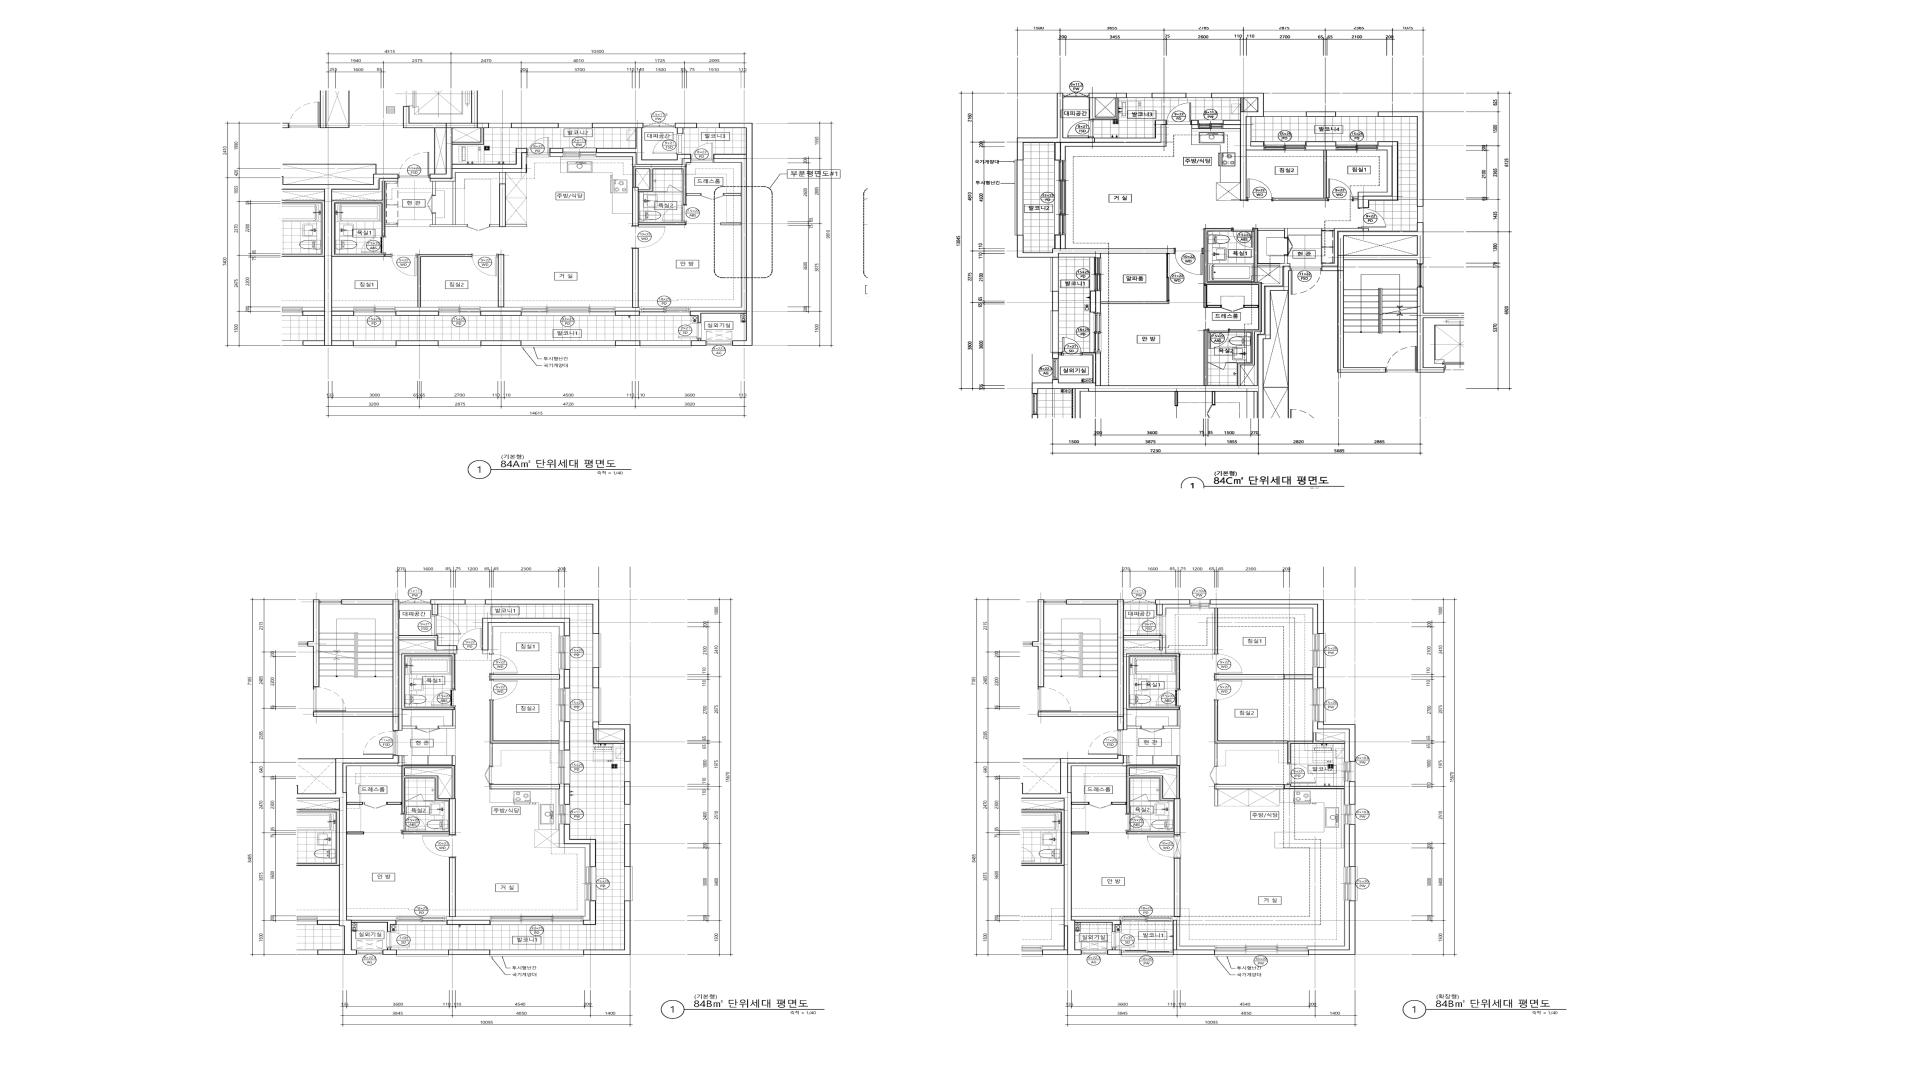door: (1290, 267, 1322, 295), (398, 152, 430, 178), (313, 687, 346, 712), (363, 731, 396, 756), (1088, 730, 1121, 755), (1038, 687, 1071, 712), (422, 835, 456, 858), (1174, 249, 1204, 275), (1147, 835, 1180, 858), (632, 226, 665, 248), (653, 134, 683, 154), (1327, 179, 1354, 201), (1246, 179, 1273, 201), (1288, 763, 1316, 784), (431, 615, 460, 635), (1137, 615, 1166, 635), (391, 254, 417, 276), (472, 254, 498, 276), (490, 679, 517, 700), (1215, 679, 1242, 700), (489, 654, 517, 674), (1214, 654, 1242, 674), (1358, 208, 1386, 228), (457, 628, 482, 650), (1166, 103, 1191, 125), (1067, 119, 1094, 138), (1232, 228, 1255, 248), (527, 137, 550, 157), (691, 143, 714, 163), (1126, 814, 1151, 832), (1207, 330, 1230, 349), (402, 814, 426, 832), (431, 689, 455, 707), (1156, 689, 1180, 707), (662, 205, 686, 223), (361, 236, 385, 254), (1061, 337, 1082, 356), (1112, 932, 1135, 948), (678, 323, 701, 339), (387, 932, 409, 948), (1208, 362, 1237, 370), (1166, 253, 1170, 301), (1284, 236, 1293, 256), (364, 802, 387, 809), (1221, 305, 1244, 312), (701, 193, 724, 200), (416, 726, 438, 733), (1141, 726, 1163, 733), (1089, 802, 1111, 809), (485, 766, 493, 784), (405, 794, 423, 802), (1210, 766, 1218, 784), (1130, 794, 1148, 802), (427, 195, 435, 213), (467, 225, 490, 231), (667, 185, 682, 192)
wall: (1032, 266, 1290, 419), (313, 599, 457, 731), (1038, 599, 1163, 730), (1322, 222, 1424, 373), (690, 123, 752, 346), (1204, 228, 1290, 386), (1060, 755, 1124, 955), (324, 174, 398, 346), (339, 755, 399, 955), (1017, 93, 1166, 160), (403, 106, 527, 179), (690, 159, 746, 311), (1215, 700, 1345, 763), (430, 153, 527, 227), (1211, 93, 1264, 201), (386, 766, 456, 835), (1111, 766, 1180, 835), (399, 650, 457, 731), (490, 700, 559, 766), (1378, 112, 1424, 207), (592, 123, 691, 165), (1417, 287, 1464, 373), (1210, 599, 1324, 634), (485, 599, 599, 634), (1124, 635, 1166, 730), (1017, 235, 1174, 258), (1210, 604, 1317, 634), (632, 167, 686, 226), (401, 653, 455, 710), (1126, 653, 1180, 710), (417, 254, 472, 307), (482, 618, 570, 650), (1273, 150, 1327, 201), (1358, 141, 1398, 208), (482, 623, 564, 654), (1309, 901, 1356, 955), (1263, 291, 1289, 388), (584, 901, 630, 955), (1068, 755, 1127, 793), (343, 756, 402, 792), (1309, 901, 1349, 950), (1317, 722, 1356, 762), (1322, 228, 1363, 266), (592, 722, 630, 762), (1173, 920, 1215, 955), (1313, 722, 1349, 762), (1172, 917, 1215, 950), (1344, 236, 1417, 255), (558, 824, 590, 867), (564, 824, 596, 867), (596, 153, 691, 167), (1032, 599, 1044, 687), (332, 179, 398, 192), (1215, 784, 1345, 789), (1089, 98, 1118, 120), (1155, 599, 1190, 615), (430, 599, 465, 615), (313, 599, 319, 687), (1214, 674, 1313, 679), (449, 857, 456, 917), (490, 674, 560, 680), (1257, 266, 1280, 284), (452, 128, 481, 142), (632, 248, 638, 308), (489, 784, 560, 789), (1174, 858, 1180, 917), (438, 710, 455, 729), (1163, 710, 1180, 729), (498, 254, 504, 307), (583, 901, 596, 925), (499, 184, 506, 227), (1163, 604, 1190, 615), (636, 169, 650, 189), (1306, 141, 1336, 150), (624, 824, 630, 867), (1349, 824, 1355, 867), (675, 123, 697, 134), (1090, 291, 1101, 313), (511, 123, 558, 128), (446, 920, 490, 925), (396, 311, 439, 316), (1344, 824, 1349, 867), (396, 341, 438, 346), (448, 950, 490, 955), (480, 311, 521, 316), (1101, 301, 1169, 304), (481, 341, 521, 346), (347, 916, 396, 920), (1089, 93, 1127, 98), (446, 916, 490, 920), (1152, 93, 1186, 98), (396, 307, 438, 311), (564, 722, 570, 750), (1204, 330, 1207, 386), (480, 307, 521, 311), (1349, 782, 1356, 805), (1306, 112, 1336, 117), (1072, 917, 1121, 920), (1317, 667, 1324, 688), (1052, 291, 1059, 311), (592, 668, 599, 688), (559, 722, 564, 750), (624, 782, 630, 805), (1215, 608, 1218, 654), (583, 901, 590, 920), (558, 784, 564, 805), (564, 784, 570, 805), (615, 311, 640, 316), (615, 341, 640, 346), (1344, 782, 1349, 805), (564, 669, 570, 688), (691, 339, 706, 346), (615, 307, 640, 311), (559, 669, 564, 688), (383, 948, 396, 955), (1108, 948, 1121, 955), (332, 307, 354, 311), (1313, 667, 1317, 688), (1214, 789, 1218, 806), (550, 148, 563, 153), (1191, 120, 1198, 129), (506, 224, 527, 227), (1240, 98, 1244, 112), (550, 153, 563, 157), (1052, 352, 1059, 359), (1215, 743, 1217, 766), (434, 128, 435, 174), (452, 756, 455, 766), (1177, 756, 1180, 766), (686, 194, 701, 196), (385, 225, 397, 227), (490, 225, 499, 227), (653, 191, 667, 192), (423, 801, 434, 802), (1148, 801, 1159, 802), (1354, 198, 1358, 200), (1059, 352, 1061, 355)
window: (1215, 946, 1309, 957), (1054, 160, 1066, 235), (521, 307, 615, 316), (490, 916, 583, 925), (490, 950, 584, 957), (1015, 160, 1023, 235), (521, 341, 616, 347), (1090, 312, 1101, 353), (396, 916, 446, 925), (640, 307, 690, 316), (1313, 688, 1326, 722), (1344, 867, 1357, 901), (1313, 634, 1326, 667), (1336, 141, 1378, 150), (1264, 141, 1306, 150), (438, 307, 480, 316), (354, 307, 396, 316), (559, 688, 570, 722), (559, 750, 570, 784), (585, 867, 596, 901), (1090, 257, 1101, 291), (1050, 311, 1059, 352), (396, 950, 448, 957), (1121, 950, 1173, 957), (559, 636, 570, 669), (640, 341, 691, 347), (1050, 258, 1059, 292), (624, 867, 633, 901), (592, 688, 601, 722), (592, 634, 601, 668), (563, 148, 596, 157), (438, 341, 481, 347), (353, 341, 396, 347), (1121, 917, 1172, 922), (1344, 762, 1356, 782), (1198, 120, 1223, 129), (1336, 112, 1378, 117), (1264, 112, 1306, 117), (559, 805, 570, 824), (1344, 805, 1355, 824), (643, 122, 675, 128), (399, 598, 430, 604), (1190, 599, 1210, 608), (558, 123, 592, 128), (1417, 264, 1424, 287), (1063, 92, 1089, 98), (1124, 599, 1155, 604), (1052, 359, 1059, 380), (1081, 950, 1107, 955), (357, 950, 383, 955), (1186, 93, 1211, 98), (1127, 93, 1152, 98), (624, 762, 630, 782), (465, 599, 485, 605), (624, 805, 630, 824), (319, 599, 341, 604), (1044, 599, 1066, 604), (697, 123, 719, 128), (489, 123, 511, 128), (1417, 207, 1424, 222), (706, 341, 732, 345)
